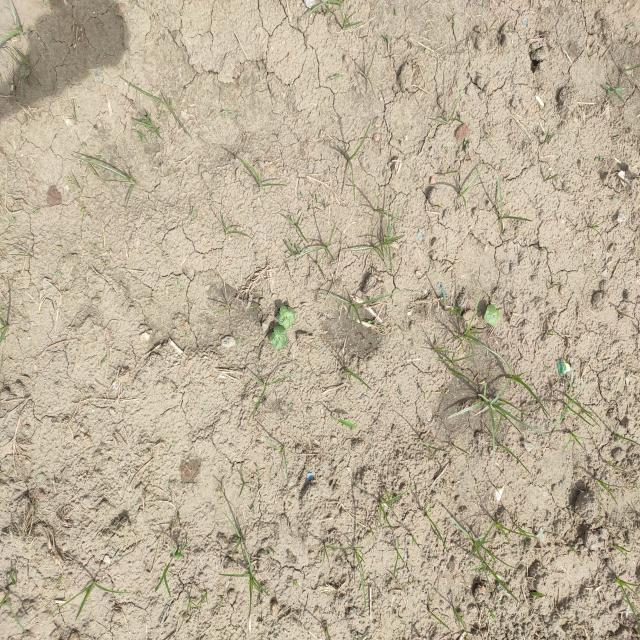seedling_s2: (270, 326, 287, 349), (484, 304, 500, 326), (278, 306, 288, 325), (284, 309, 294, 328)
